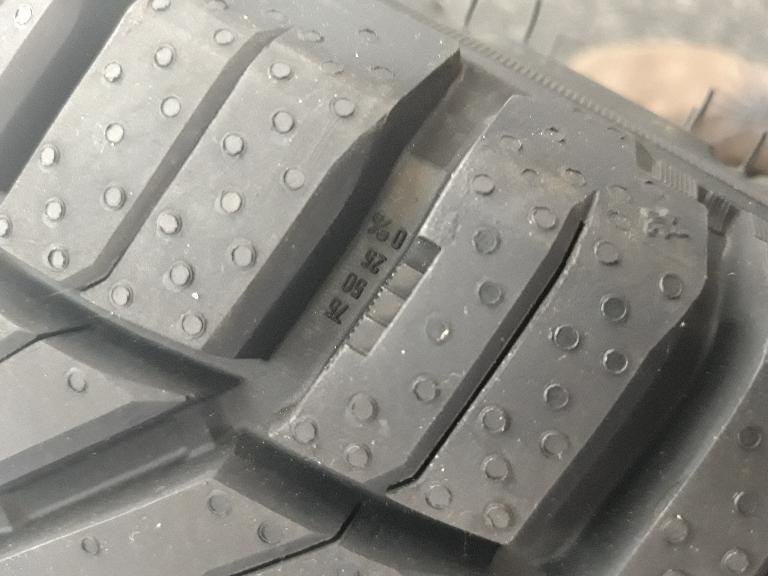temoin:100: (319, 225, 449, 378)
